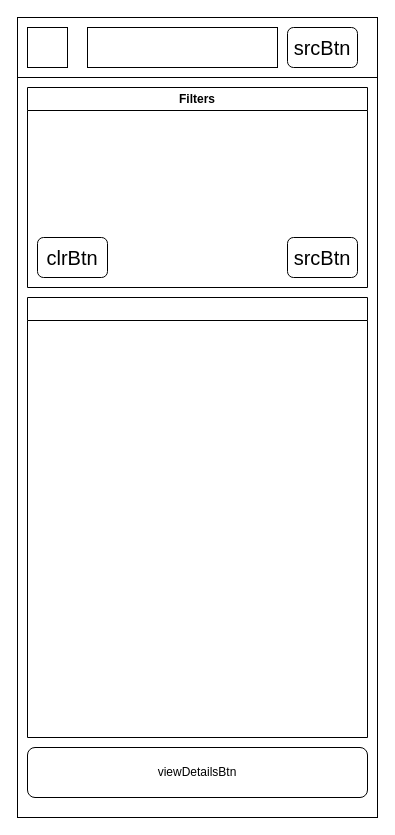
Some shapes in this 395 by 835 pixel diagram are drawn without their labels. Here are the shapes that lost their labels. From the top down, the centre of each, then its label:
point (47, 47): Nav
point (182, 47): Search Field
point (197, 517): Recipe List
